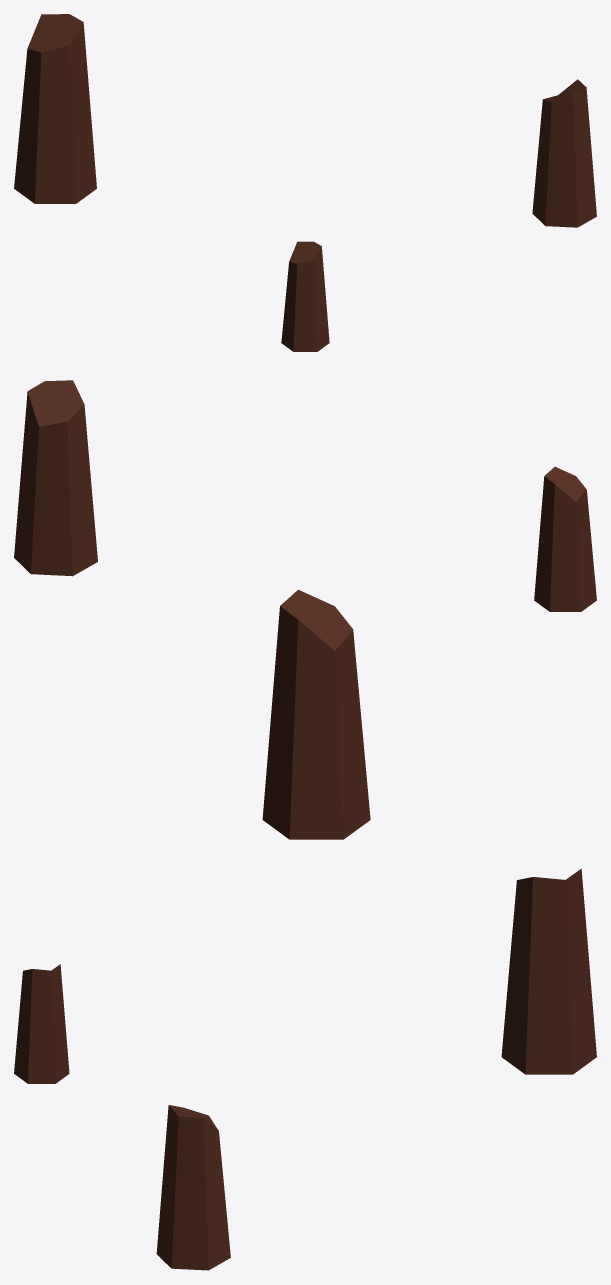
File: forest_cut.fbx
3 views of the same model, one above another, from view 1: azimuth 30°, elevation 25°; view 2: azimuth 150°, elevation 25°; view 3: azimuth 270°, elevation 25° (orthographic). The views are drawn at different scales.
Visible parts, largest first — view 1: forest_cut; view 2: forest_cut; view 3: forest_cut.
Boxes of the visible parts, box(x1,y1,x2,y2) form: forest_cut: box(14, 14, 596, 351); forest_cut: box(14, 380, 596, 839); forest_cut: box(14, 868, 596, 1270).
Bounding box in the file's own units: 365 × 141 × 390.
